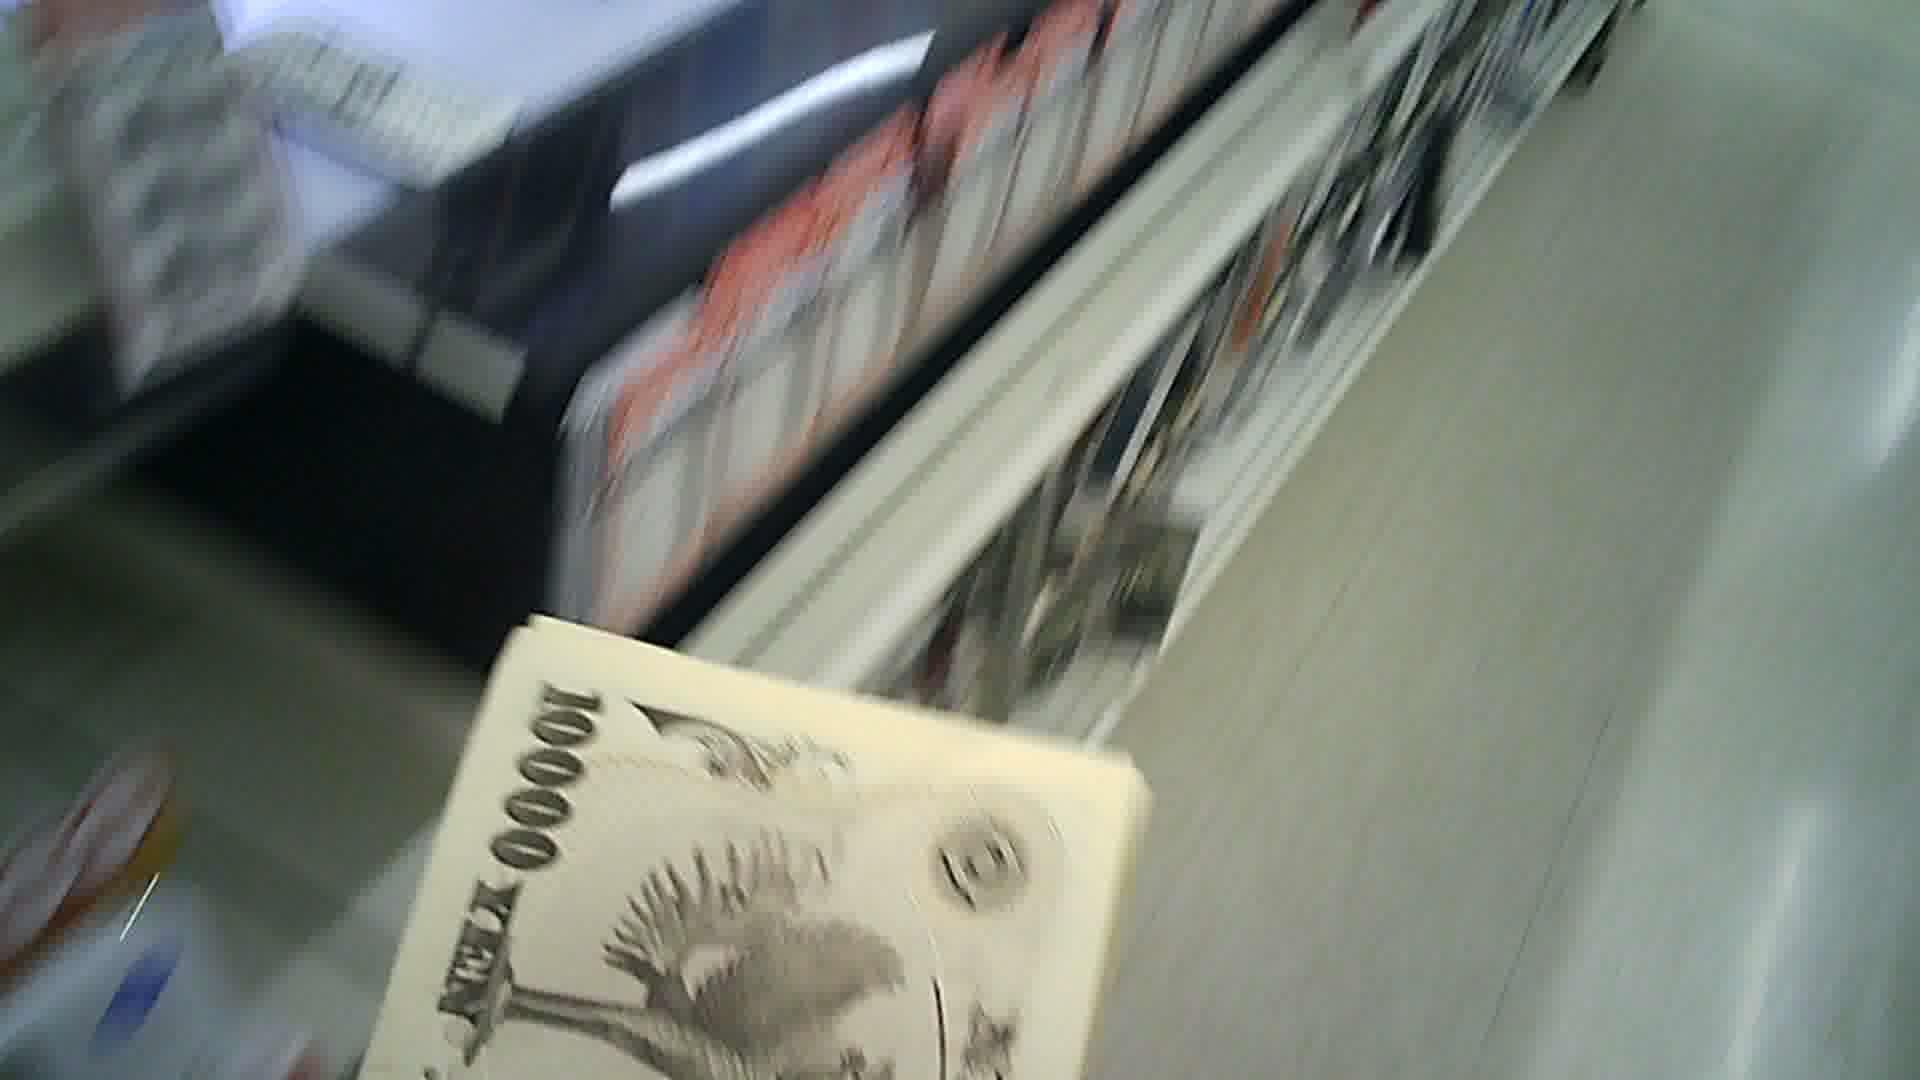10,000 Yen: (356, 582, 1189, 1079)
